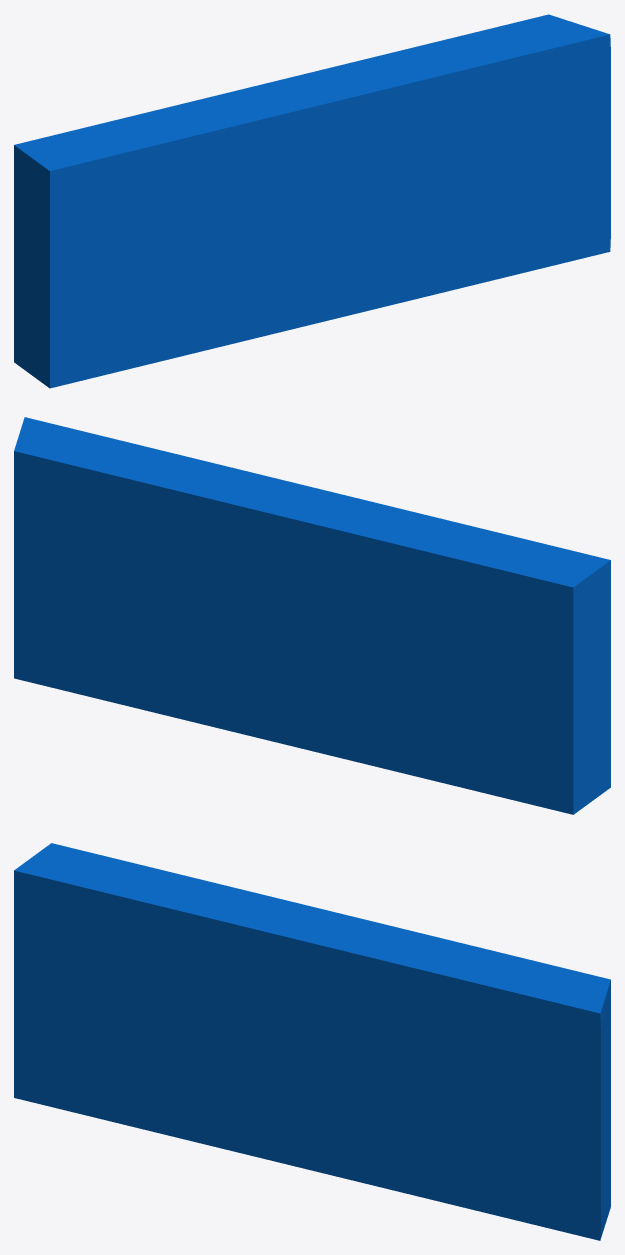
Rendered from simple_example_hole_part_36.obj.
The picture shows the model from 3 angles, top to bottom: view 1: azimuth 30°, elevation 25°; view 2: azimuth 150°, elevation 25°; view 3: azimuth 330°, elevation 25°; orthographic projection. The views are drawn at different scales.
Size of the model in its own units: 27.02 by 10 by 2.99.
